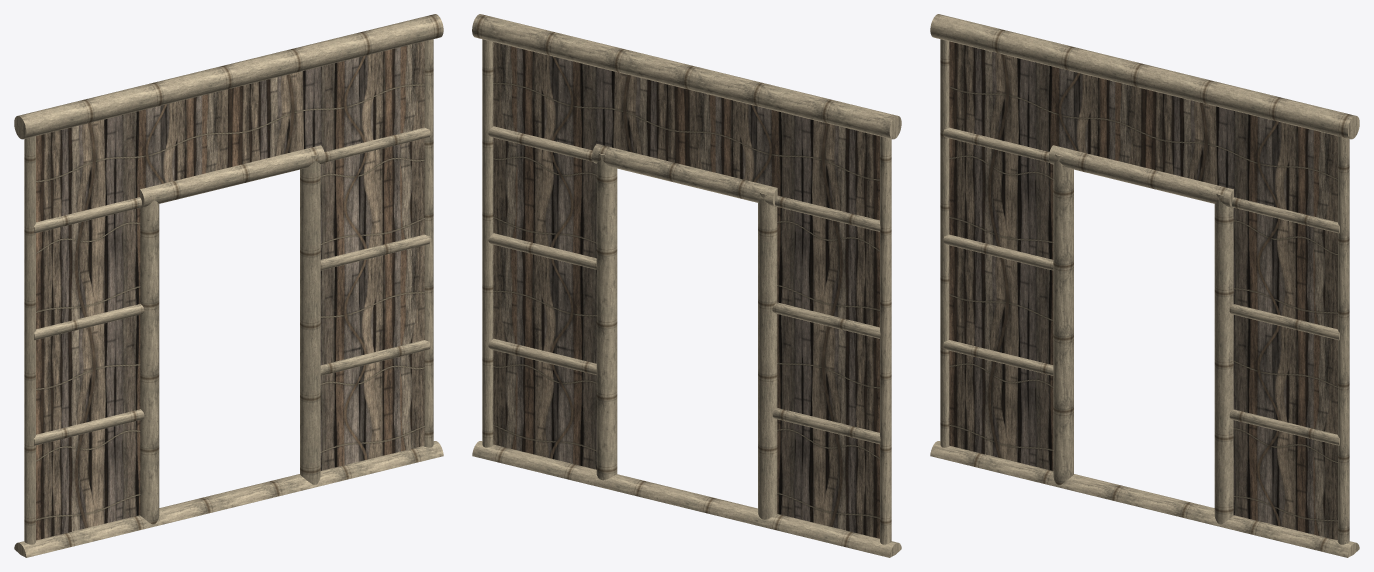
File: doorway.glb
3 renders of one model, left to right at view 1: azimuth 30°, elevation 25°; view 2: azimuth 150°, elevation 25°; view 3: azimuth 330°, elevation 25°, orthographic.
Visible parts, largest first — view 1: doorway; view 2: doorway; view 3: doorway.
Boxes of the visible parts, left/top/right/bottom form: doorway: left=14, top=14, right=443, bottom=557; doorway: left=472, top=14, right=901, bottom=557; doorway: left=930, top=14, right=1359, bottom=557.
Size of the model in its own units: 5.42 by 5.44 by 0.2747.
Materials: 2 (2 with a texture image).
